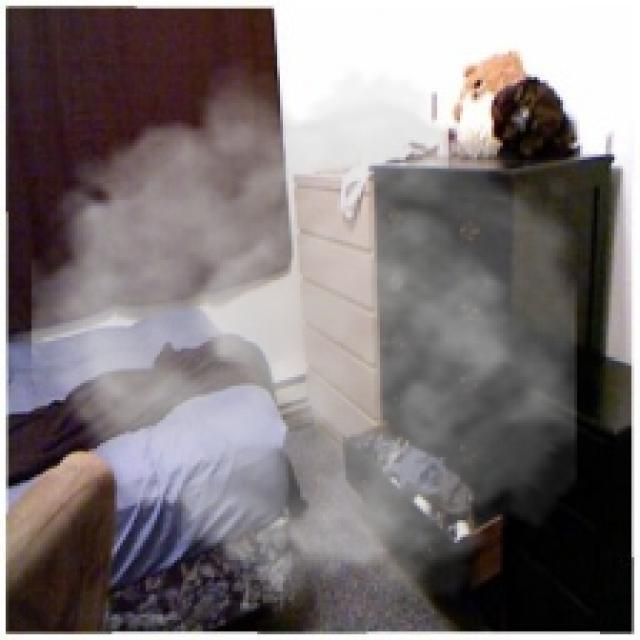Smoke: (31, 60, 578, 620)
